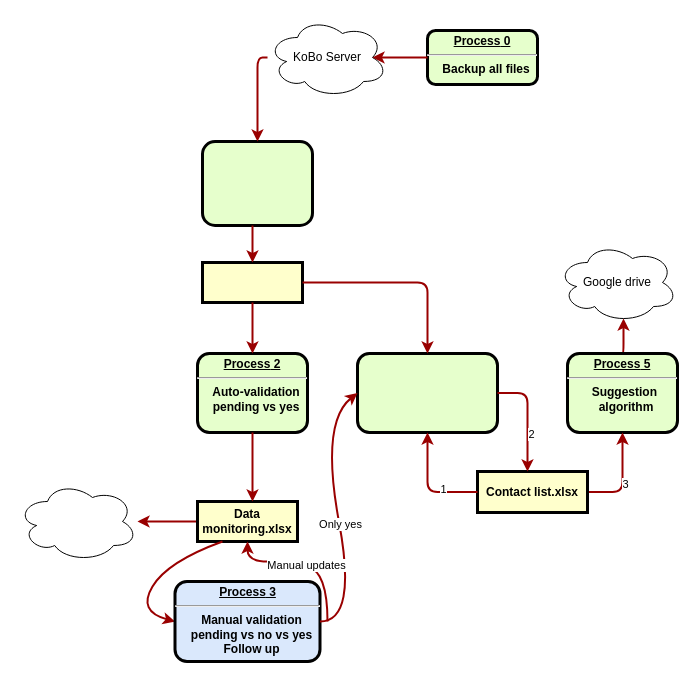
The diagram is 696 pixels wide and 680 high, and some of its shapes have lost their labels. Each missing label, with the centre of its shape:
Full dataset.xlsx: (x=252, y=282)
Monitoring Dashboard: (x=77, y=521)
Process 1 Fetch new data Regular output audit.csv: (x=257, y=183)
Process 4 Extract contact info Update contact list: (x=427, y=393)
